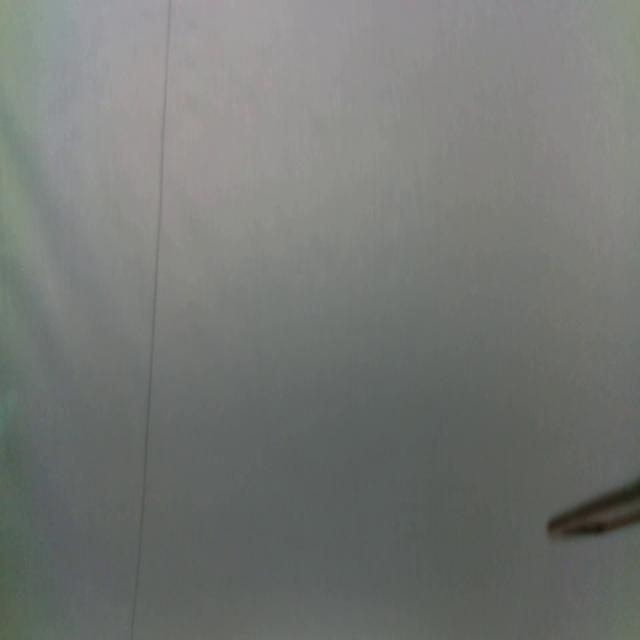crease: (126, 0, 177, 640)
